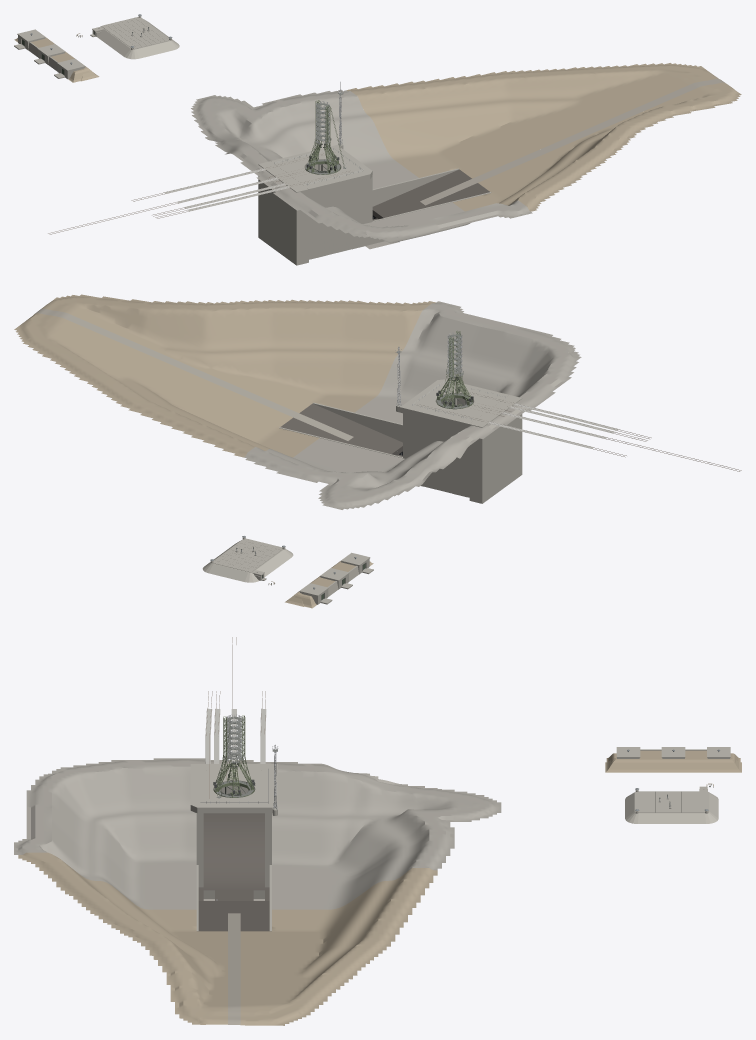
The model's file is soyuz.lod1.glb.
3 renders of one model, top to bottom at view 1: azimuth 30°, elevation 25°; view 2: azimuth 150°, elevation 25°; view 3: azimuth 270°, elevation 25°, orthographic. The views are drawn at different scales.
Visible parts, largest first — view 1: FlamePit_Earth, FlamePit_Lining, Platform_ConcretePylons, Platform_Concrete, FlamePit_Road, FlamePit_Scorch, CommandBunker_ConcreteFacing, Tracks_Band, CommandBunker_ConcreteMound, FlamePit_ScorchSump, StorageBunker_ConcreteRoofs, StorageBunker_Earth (+2 smaller); view 2: FlamePit_Earth, FlamePit_Lining, Platform_ConcretePylons, Platform_Concrete, FlamePit_Road, FlamePit_Scorch, CommandBunker_ConcreteFacing, Tracks_Band, CommandBunker_ConcreteMound, FlamePit_ScorchSump, StorageBunker_ConcreteRoofs, StorageBunker_Earth (+1 smaller); view 3: FlamePit_Lining, FlamePit_Earth, FlameDeflector_Scorch, Platform_Concrete, StorageBunker_Earth, Platform_ConcretePylons, FlamePit_Scorch, CommandBunker_ConcreteFacing, CommandBunker_ConcreteMound, FlamePit_Road, Tracks_Band, FlamePit_ScorchSump (+1 smaller).
Part boxes in pixels (box(x1,y1,x2,y2)): FlamePit_Earth: box(347, 63, 741, 211); FlamePit_Lining: box(191, 90, 532, 243); Platform_ConcretePylons: box(258, 161, 491, 265); Platform_Concrete: box(271, 144, 372, 194); FlamePit_Road: box(420, 78, 724, 205); FlamePit_Scorch: box(372, 169, 489, 220); CommandBunker_ConcreteFacing: box(101, 17, 169, 49); Tracks_Band: box(164, 168, 289, 211); CommandBunker_ConcreteMound: box(97, 17, 179, 59); FlamePit_ScorchSump: box(372, 192, 427, 219); StorageBunker_ConcreteRoofs: box(17, 29, 85, 71); StorageBunker_Earth: box(14, 37, 99, 82); FlamePit_Earth: box(14, 294, 435, 457); FlamePit_Lining: box(244, 301, 581, 509); Platform_ConcretePylons: box(279, 395, 522, 503); Platform_Concrete: box(396, 379, 508, 428); FlamePit_Road: box(35, 308, 353, 440); FlamePit_Scorch: box(280, 403, 402, 456); CommandBunker_ConcreteFacing: box(212, 539, 282, 572); Tracks_Band: box(488, 403, 618, 448); CommandBunker_ConcreteMound: box(202, 538, 293, 582); FlamePit_ScorchSump: box(346, 427, 402, 455); StorageBunker_ConcreteRoofs: box(299, 552, 370, 596); StorageBunker_Earth: box(285, 561, 373, 608); FlamePit_Lining: box(14, 758, 501, 909); FlamePit_Earth: box(18, 852, 437, 1025); FlameDeflector_Scorch: box(198, 813, 269, 890); Platform_Concrete: box(190, 770, 277, 815); StorageBunker_Earth: box(605, 750, 741, 772); Platform_ConcretePylons: box(190, 764, 277, 931); FlamePit_Scorch: box(198, 890, 269, 931); CommandBunker_ConcreteFacing: box(635, 791, 707, 812); CommandBunker_ConcreteMound: box(625, 792, 718, 823); FlamePit_Road: box(228, 913, 240, 1024); Tracks_Band: box(205, 708, 266, 763); FlamePit_ScorchSump: box(198, 901, 269, 913).
Bounding box in the file's own units: 418 × 85.27 × 344.
